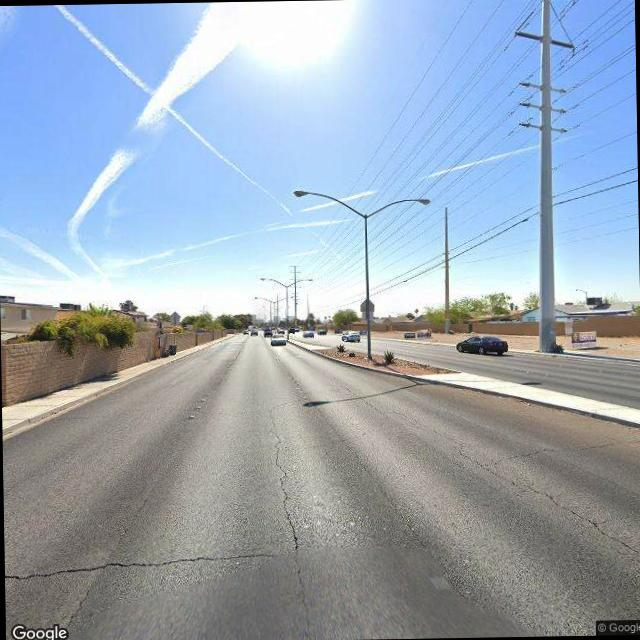crack: (357, 389, 632, 556), (3, 540, 272, 584), (262, 401, 301, 554), (478, 432, 622, 464)
